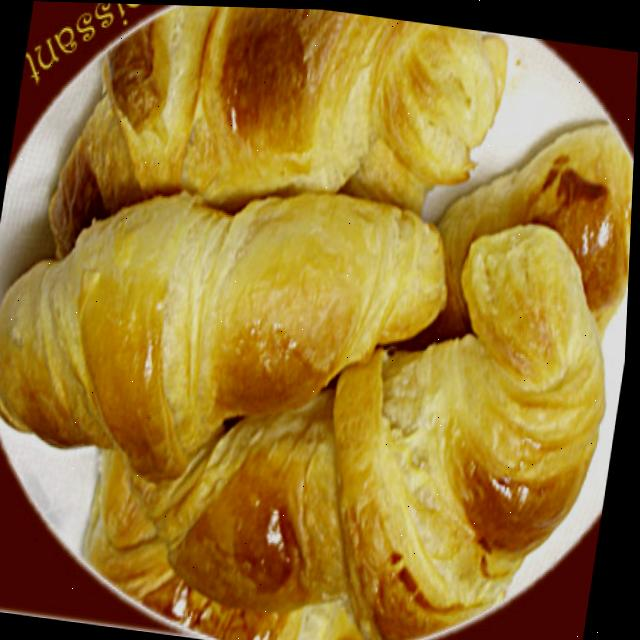面包点心: (69, 24, 639, 640)
